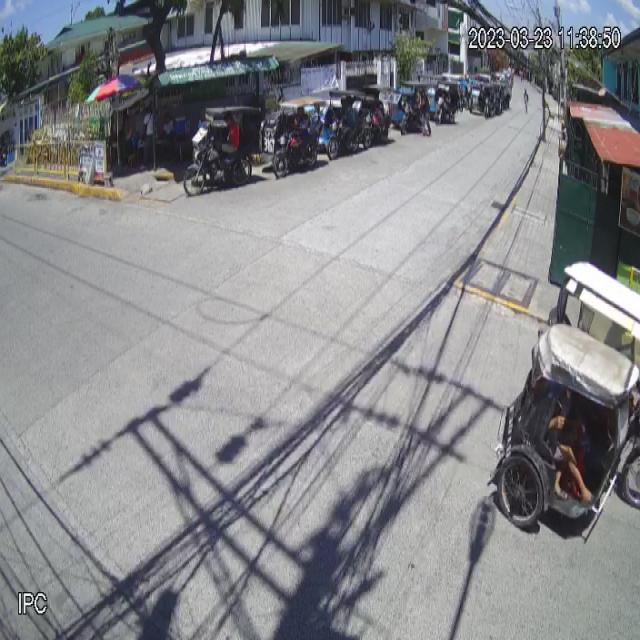Tricycle: (487, 259, 640, 536)
